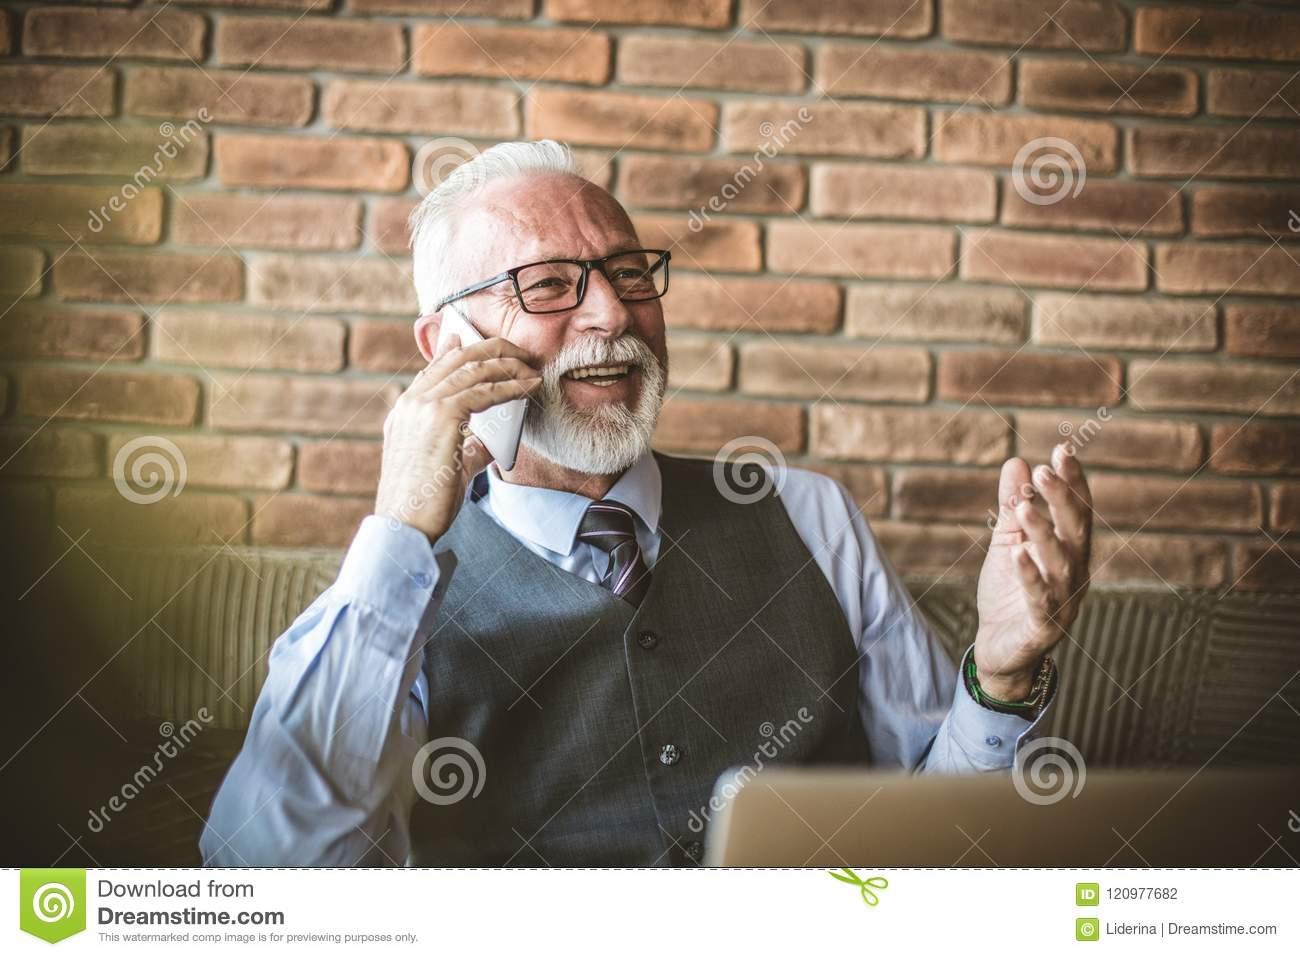phone: (432, 301, 534, 468)
talk: (371, 221, 673, 532)
